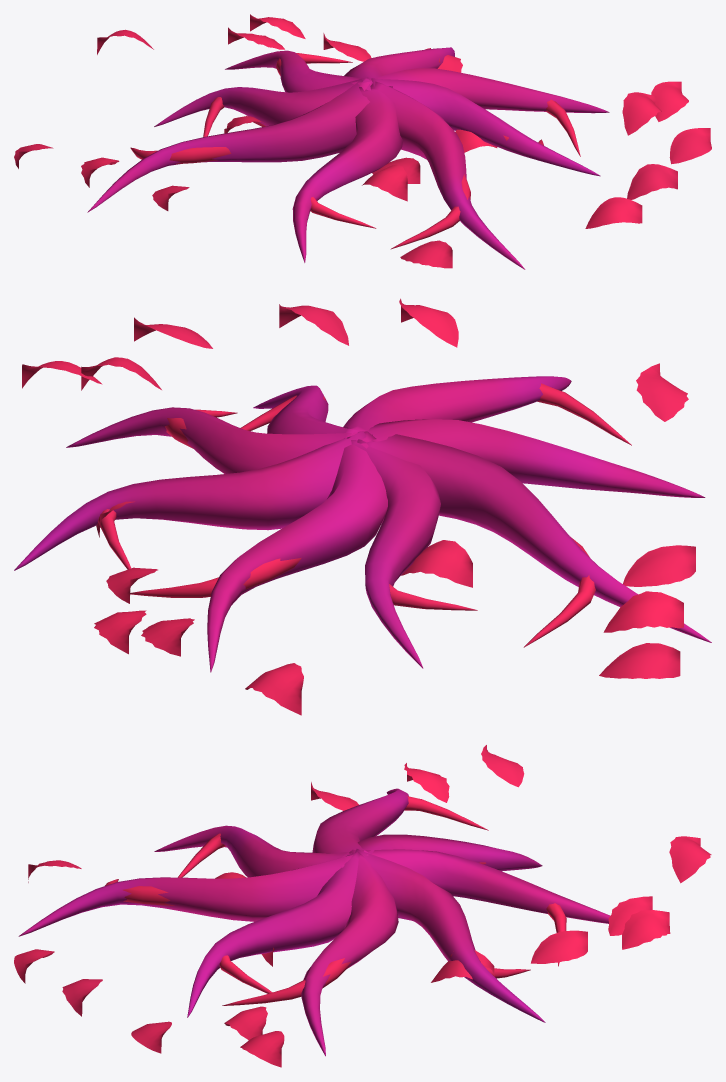
File: SM_LW_RootFan.fbx
3 views of the same model, one above another, from view 1: azimuth 30°, elevation 25°; view 2: azimuth 150°, elevation 25°; view 3: azimuth 270°, elevation 25° (orthographic). The views are drawn at different scales.
Parts seen in each view (by area): view 1: SM_LW_RootFan; view 2: SM_LW_RootFan; view 3: SM_LW_RootFan.
Boxes of the visible parts, <box> form: SM_LW_RootFan: <box>14,14,711,269</box>; SM_LW_RootFan: <box>14,298,711,715</box>; SM_LW_RootFan: <box>14,745,711,1067</box>.
Bounding box in the file's own units: 130 × 134 × 17.69.
